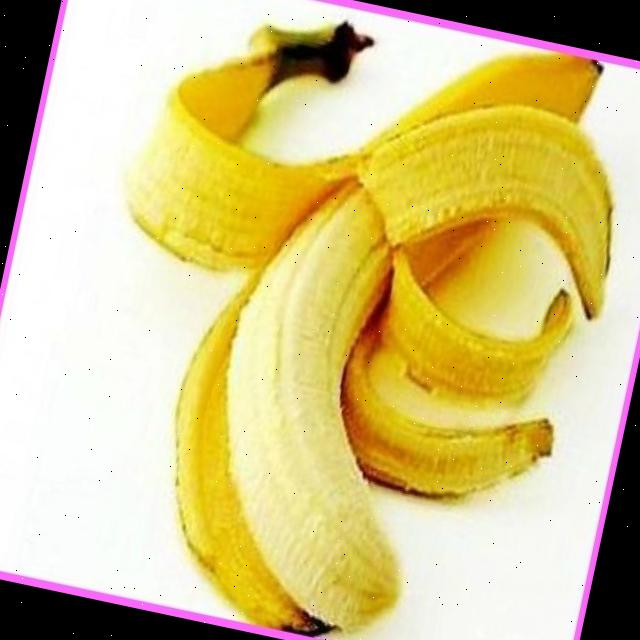banana-peel: (40, 0, 640, 640), (133, 150, 481, 640)
